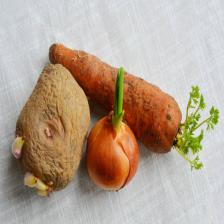Sprouted potato: (10, 60, 92, 201)
